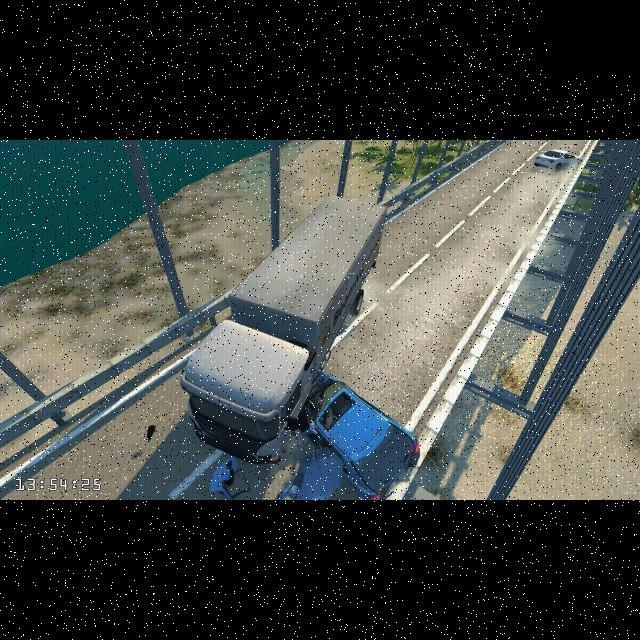severe: (178, 193, 424, 498)
